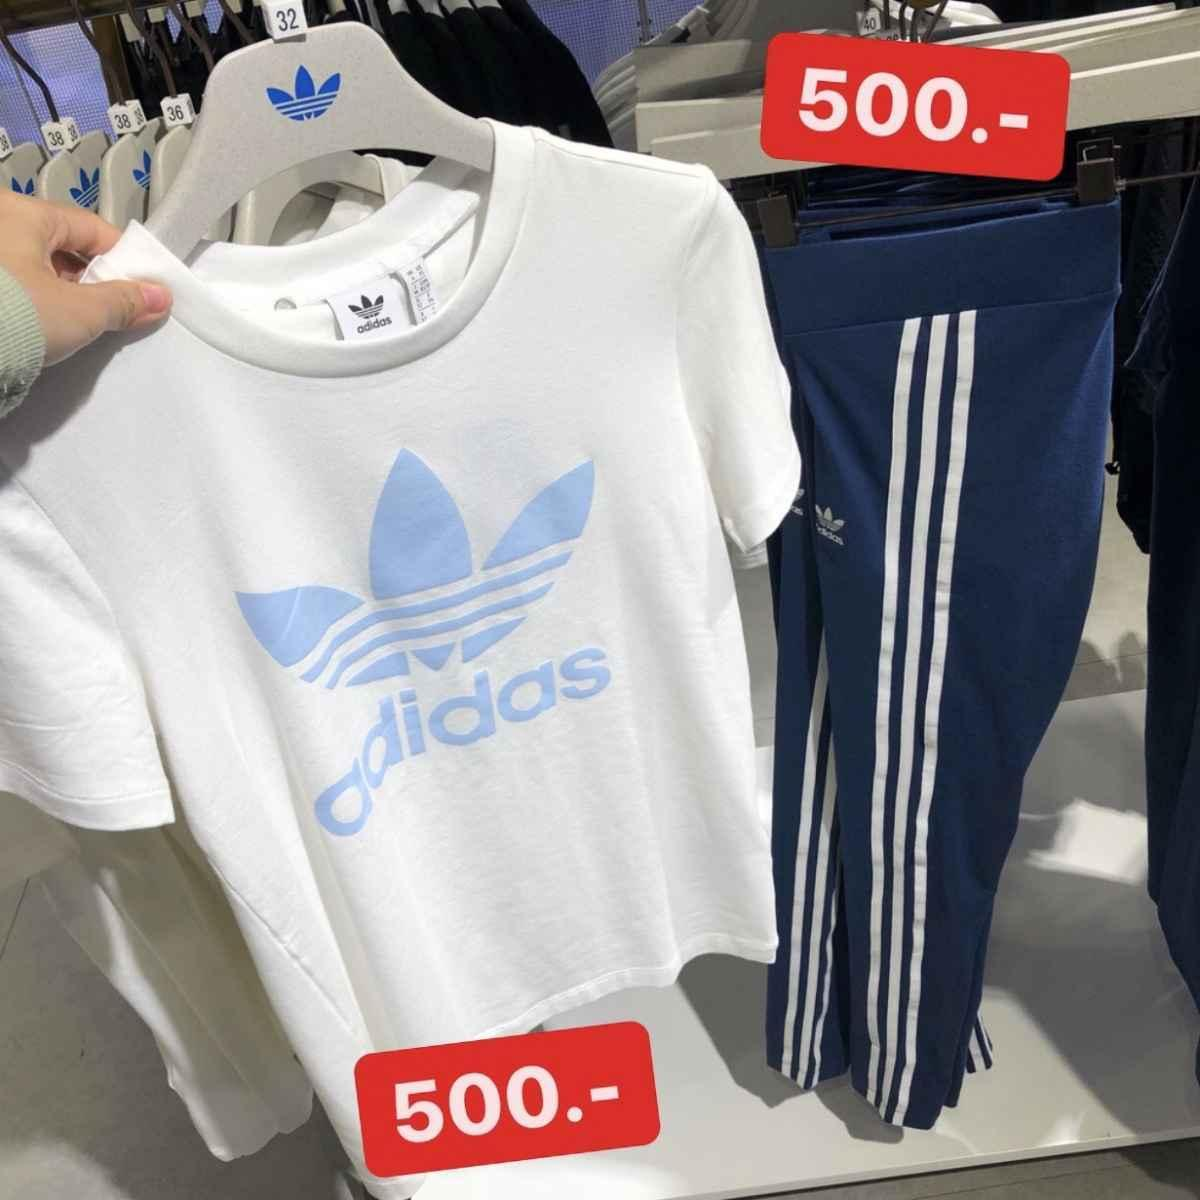Tshirt: (3, 176, 777, 1053)
pants: (780, 227, 1111, 1121)
